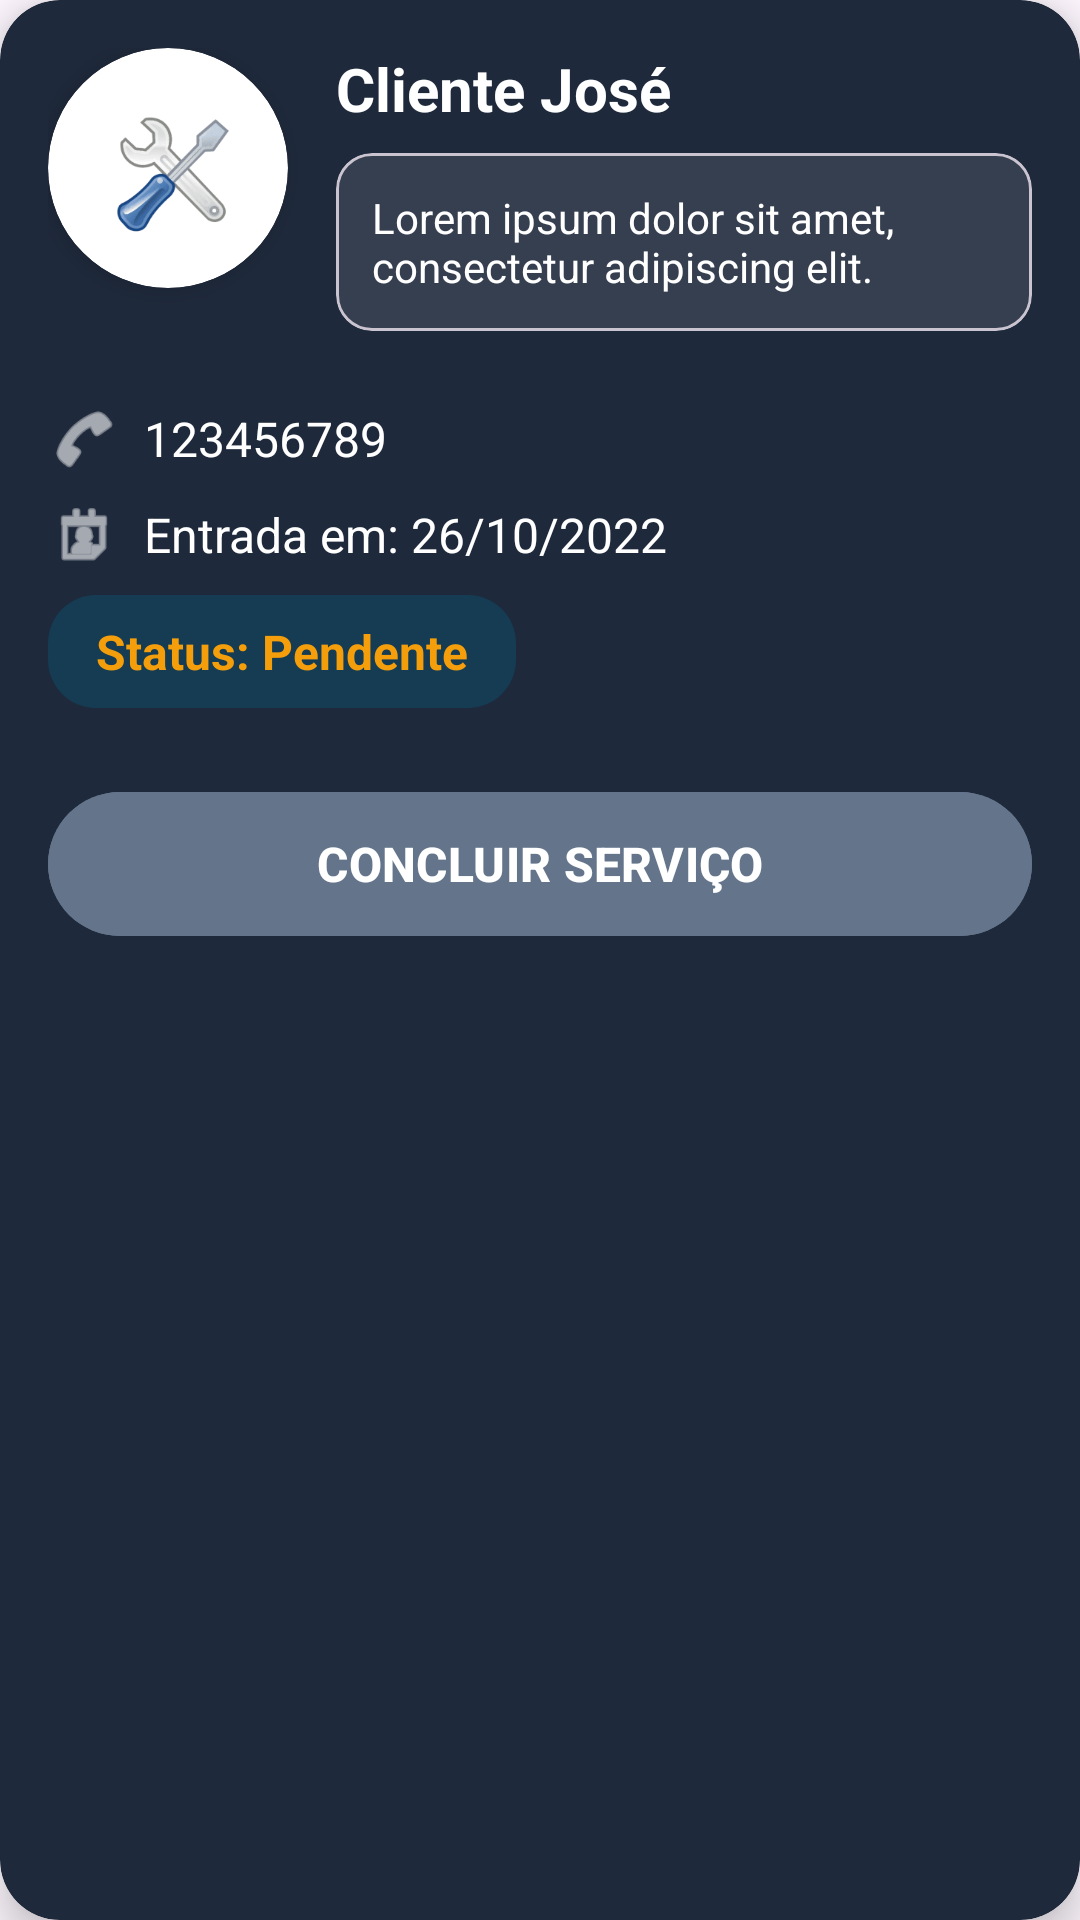

Screen size 1080*1920. Icon name, then its center in pixels as (x=x, y=y):
calendar: (x=84, y=534)
call: (x=84, y=439)
